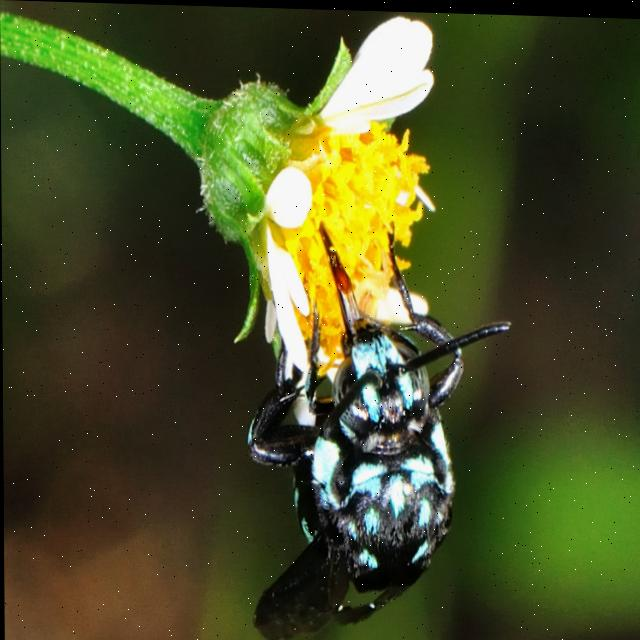Thyreus: (236, 204, 515, 640)
